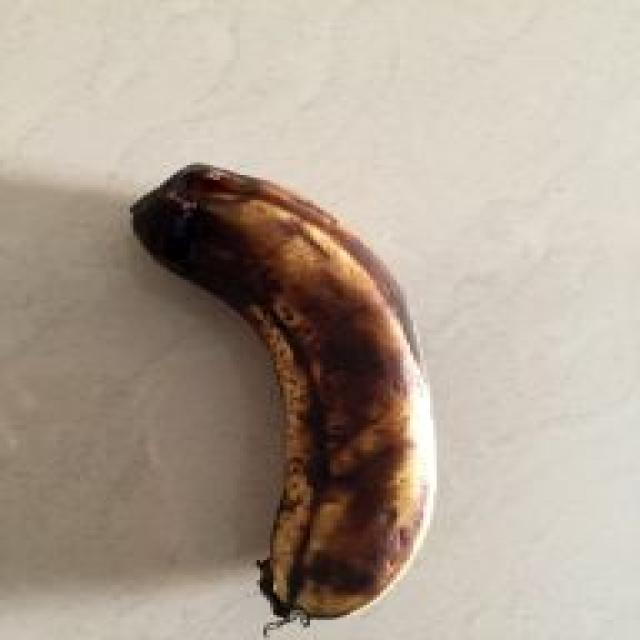Rotten: (127, 132, 470, 640)
